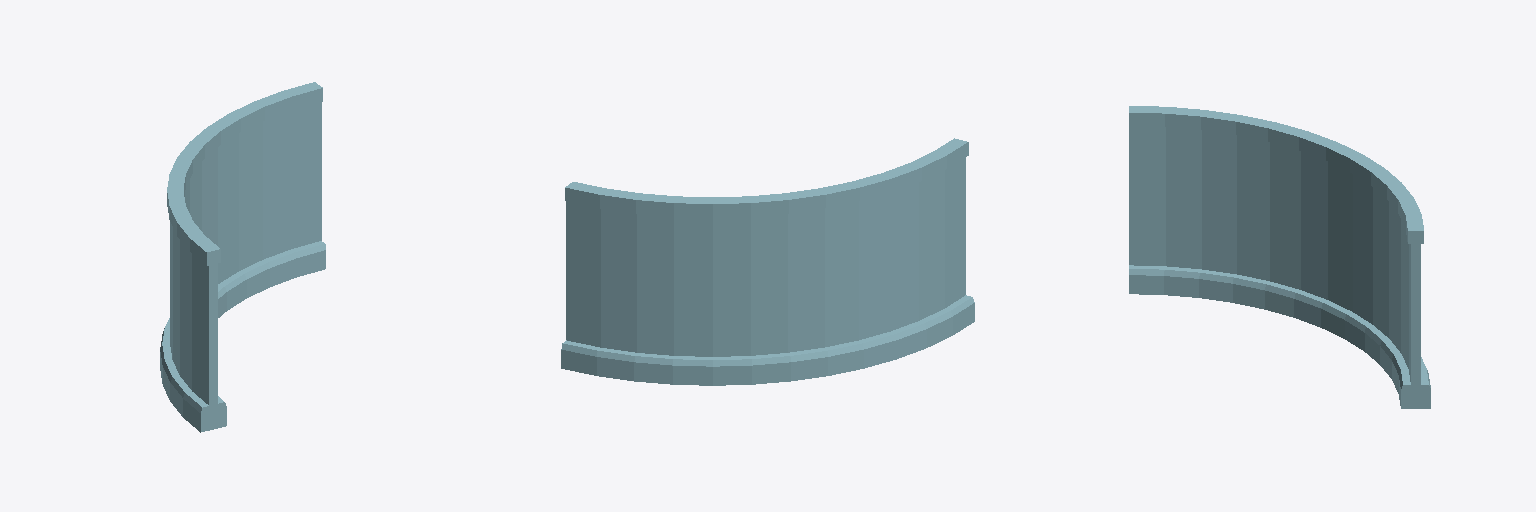
Rendered from stoneWallCurve.obj.
The picture shows the model from 3 angles: view 1: azimuth 30°, elevation 25°; view 2: azimuth 150°, elevation 25°; view 3: azimuth 270°, elevation 25°; orthographic projection.
Parts seen in each view (by area): view 1: stoneWallCurve; view 2: stoneWallCurve; view 3: stoneWallCurve.
Part boxes in pixels (x1,y1,x2,y2): stoneWallCurve: (160, 82, 325, 432); stoneWallCurve: (561, 138, 974, 385); stoneWallCurve: (1129, 106, 1430, 408).
Size of the model in its own units: 1 by 0.6519 by 1.